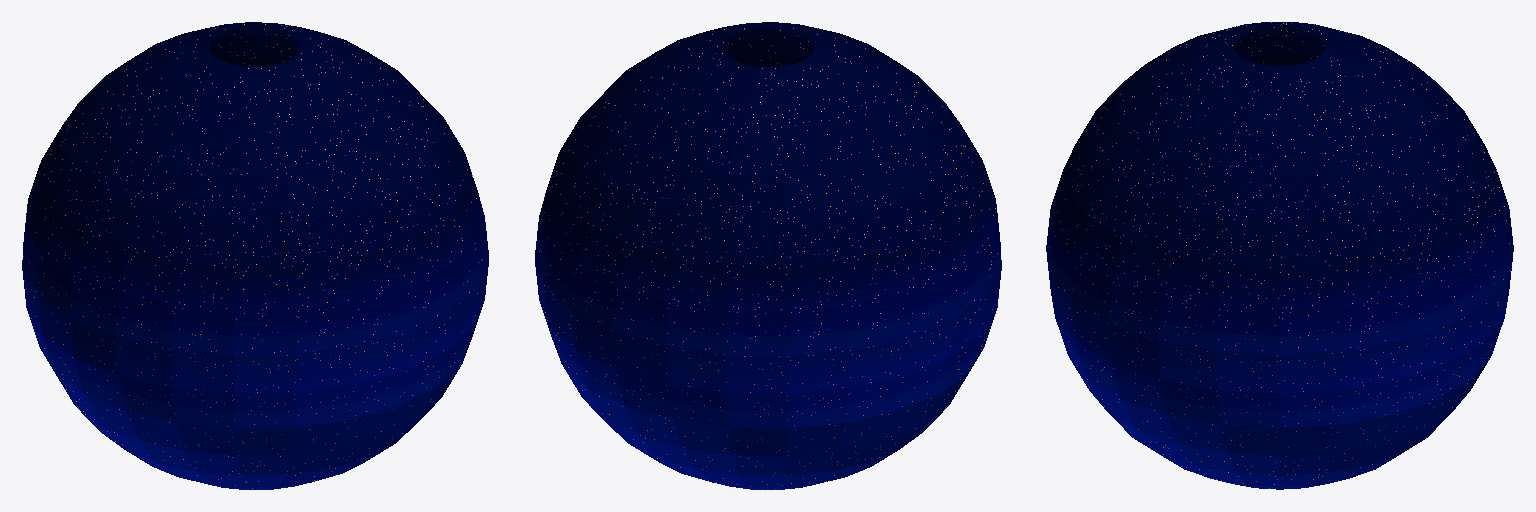
The picture shows the model from 3 angles: view 1: azimuth 30°, elevation 25°; view 2: azimuth 150°, elevation 25°; view 3: azimuth 270°, elevation 25°; orthographic projection.
Visible parts, largest first — view 1: space_sky_top, space_sky_bottom; view 2: space_sky_top, space_sky_bottom; view 3: space_sky_top, space_sky_bottom.
Part boxes in pixels (left/top/right/bottom): space_sky_top: left=22, top=22, right=488, bottom=428; space_sky_bottom: left=53, top=366, right=460, bottom=489; space_sky_top: left=535, top=22, right=1001, bottom=428; space_sky_bottom: left=563, top=366, right=970, bottom=489; space_sky_top: left=1046, top=22, right=1513, bottom=427; space_sky_bottom: left=1069, top=357, right=1490, bottom=489.
Size of the model in its own units: 316 by 312 by 317.
Materials: 2 (2 with a texture image).